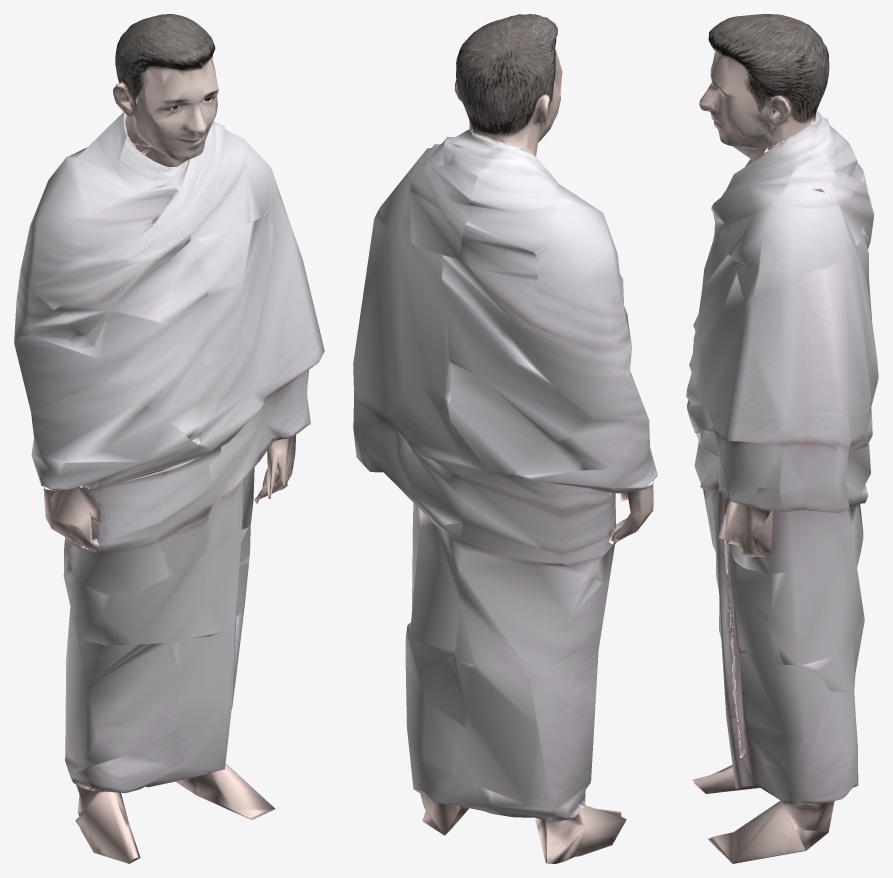
File: man2.glb
The picture shows the model from 3 angles, left to right: view 1: azimuth 30°, elevation 25°; view 2: azimuth 150°, elevation 25°; view 3: azimuth 270°, elevation 25°; orthographic projection.
Parts seen in each view (by area): view 1: cloth, skin; view 2: cloth, skin; view 3: cloth, skin.
Boxes of the visible parts, x1,y1,x2,y2 form: cloth: (14,108,324,793); skin: (43,14,300,863); cloth: (353,129,657,822); skin: (420,14,653,863); cloth: (686,111,878,804); skin: (692,14,834,863).
Bounding box in the file's own units: 0.6268 × 1.74 × 0.376.
2 materials, 2 textured.
